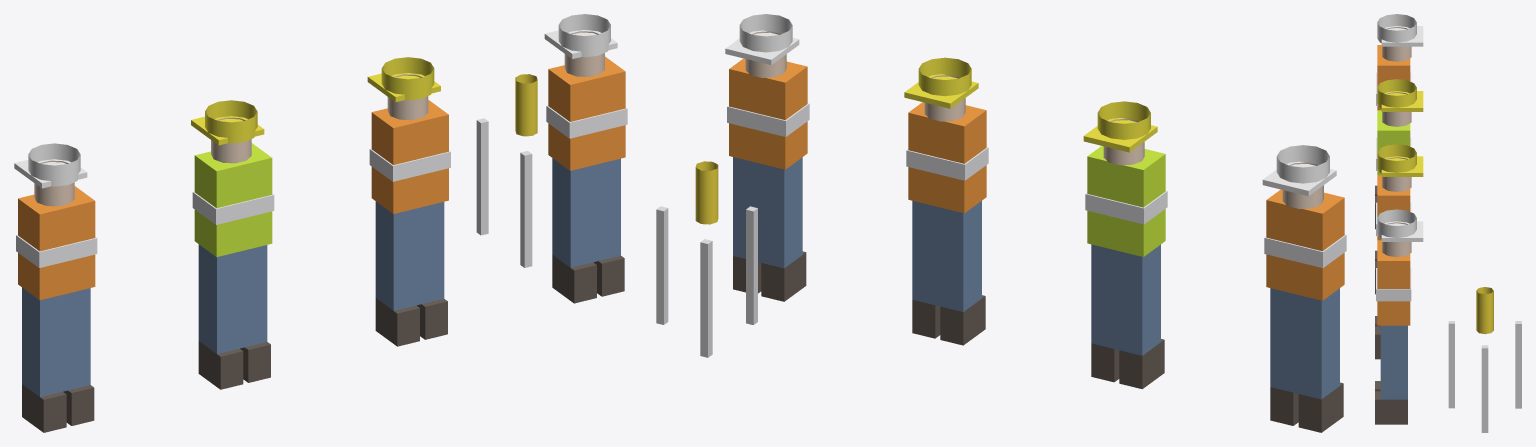
File: construction_workers.glb
The picture shows the model from 3 angles, left to right: view 1: azimuth 30°, elevation 25°; view 2: azimuth 150°, elevation 25°; view 3: azimuth 270°, elevation 25°; orthographic projection. The views are drawn at different scales.
Parts seen in each view (by area): view 1: PipeWorker_Jeans, Banksman_Jeans, Supervisor_Jeans, Surveyor_Jeans, PipeWorker_Vest, Supervisor_Vest, Banksman_Vest, Surveyor_Vest, Banksman_Helmet, Supervisor_Helmet, PipeWorker_Helmet, Surveyor_Helmet (+23 smaller); view 2: PipeWorker_Jeans, Supervisor_Jeans, Banksman_Jeans, Surveyor_Jeans, Banksman_Vest, Surveyor_Vest, PipeWorker_Vest, Supervisor_Vest, PipeWorker_Helmet, Supervisor_Helmet, Banksman_Helmet, Surveyor_Helmet (+23 smaller); view 3: Surveyor_Jeans, Surveyor_Vest, PipeWorker_Helmet, Banksman_Helmet, Surveyor_Helmet, Supervisor_Helmet, Surveyor_BootR, Supervisor_Vest, PipeWorker_Vest, Banksman_Vest, SurveyTripodHead, TripodLeg_0 (+12 smaller).
Boxes of the visible parts, x1,y1,x2,y2 form: PipeWorker_Jeans: (198,244,267,353); Banksman_Jeans: (375,201,444,310); Supervisor_Jeans: (22,287,90,397); Surveyor_Jeans: (552,158,620,267); PipeWorker_Vest: (194,143,272,257); Supervisor_Vest: (18,186,95,300); Banksman_Vest: (371,100,448,213); Surveyor_Vest: (548,56,625,170); Banksman_Helmet: (381,57,434,100); Supervisor_Helmet: (28,143,80,186); PipeWorker_Helmet: (205,100,257,143); Surveyor_Helmet: (558,14,610,57); PipeWorker_Jeans: (1091,244,1160,355); Supervisor_Jeans: (1270,288,1339,399); Banksman_Jeans: (912,201,981,311); Surveyor_Jeans: (733,157,802,268); Banksman_Vest: (908,102,986,213); Surveyor_Vest: (729,58,807,169); PipeWorker_Vest: (1087,146,1165,256); Supervisor_Vest: (1266,189,1344,300); PipeWorker_Helmet: (1097,101,1150,139); Supervisor_Helmet: (1276,145,1329,183); Banksman_Helmet: (918,57,971,96); Surveyor_Helmet: (739,14,792,52); Surveyor_Jeans: (1380,325,1407,399); Surveyor_Vest: (1377,240,1410,325); PipeWorker_Helmet: (1377,79,1416,108); Banksman_Helmet: (1377,144,1416,173); Surveyor_Helmet: (1377,209,1416,238); Supervisor_Helmet: (1377,14,1416,42); Surveyor_BootR: (1375,391,1407,424); Supervisor_Vest: (1377,45,1410,110); PipeWorker_Vest: (1377,110,1410,175); Banksman_Vest: (1377,175,1410,240); SurveyTripodHead: (1476,287,1493,334); TripodLeg_0: (1481,345,1488,432).
Size of the model in its own units: 4.81 by 1.98 by 1.34.
